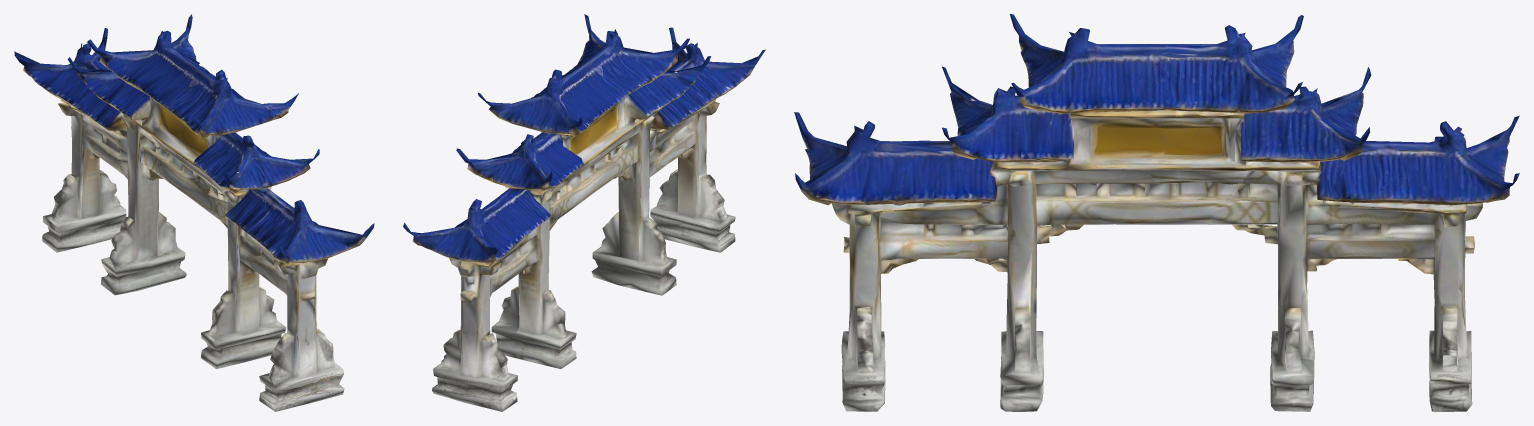
The model's file is pailou.lod1.glb.
3 renders of one model, left to right at view 1: azimuth 30°, elevation 25°; view 2: azimuth 150°, elevation 25°; view 3: azimuth 270°, elevation 25°, orthographic. The views are drawn at different scales.
Visible parts, largest first — view 1: tripo_node_44e4f279-6d27-45df-995b-9bbc46ef08e6; view 2: tripo_node_44e4f279-6d27-45df-995b-9bbc46ef08e6; view 3: tripo_node_44e4f279-6d27-45df-995b-9bbc46ef08e6.
Boxes of the visible parts, x1=… form: tripo_node_44e4f279-6d27-45df-995b-9bbc46ef08e6: x1=14, y1=14, x2=374, y2=411; tripo_node_44e4f279-6d27-45df-995b-9bbc46ef08e6: x1=403, y1=14, x2=765, y2=411; tripo_node_44e4f279-6d27-45df-995b-9bbc46ef08e6: x1=794, y1=14, x2=1519, y2=411.
Bounding box in the file's own units: 0.2261 × 0.55 × 0.9988.
Materials: 1 (1 with a texture image).
